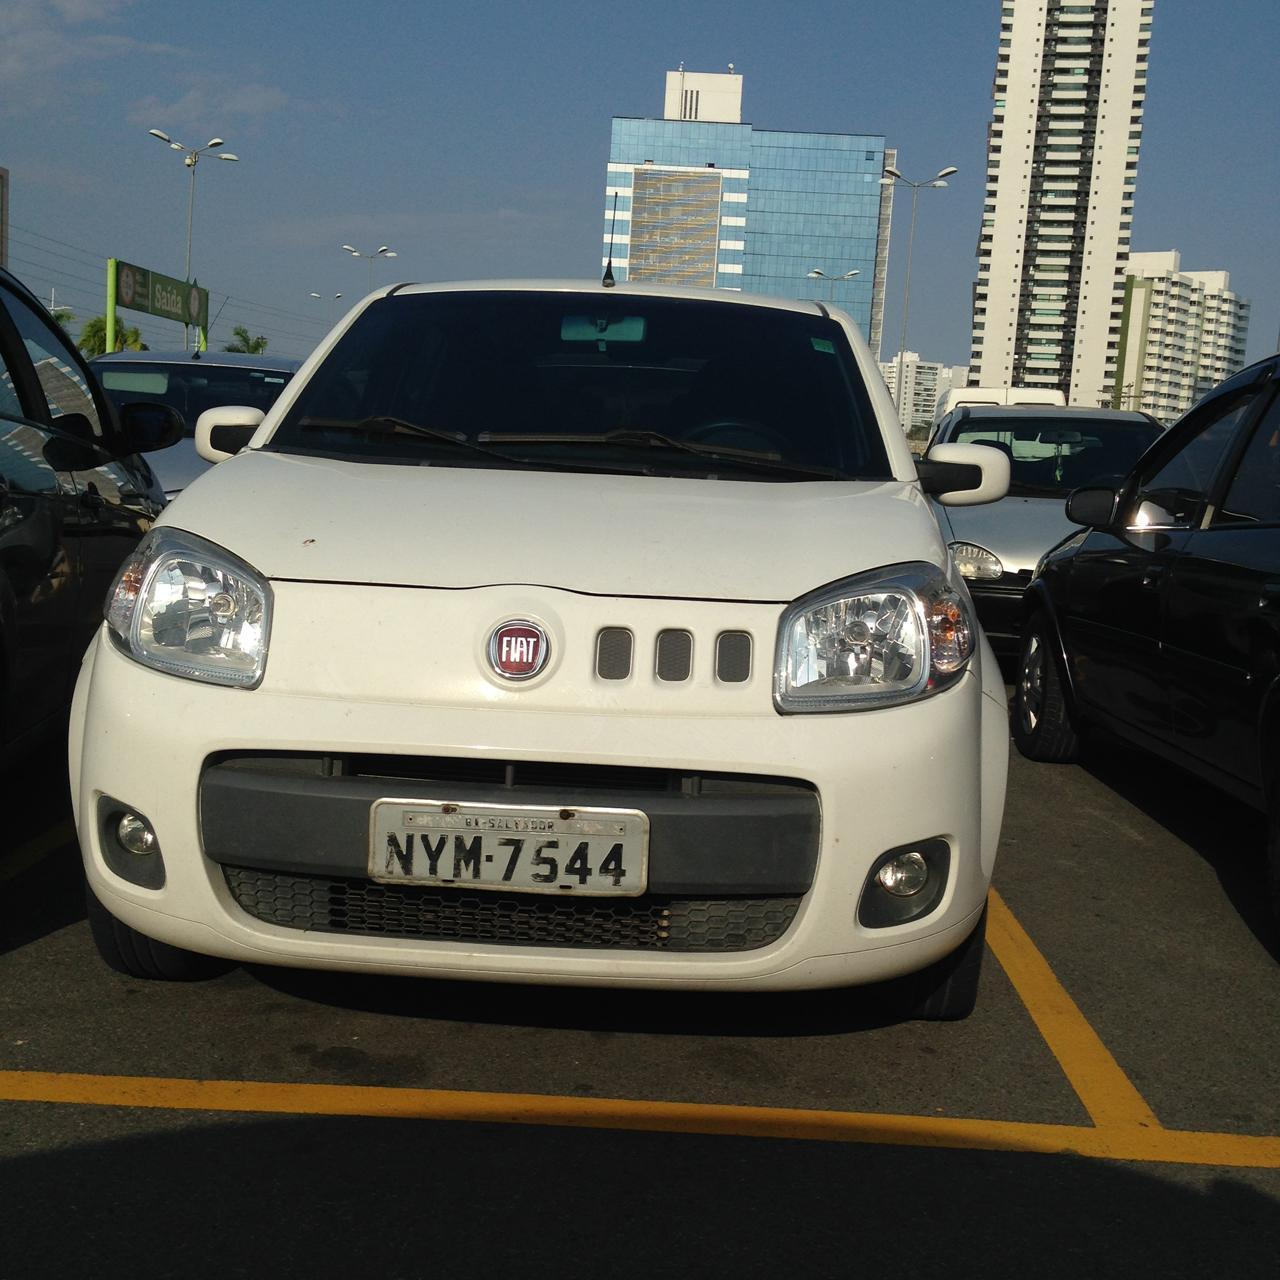placa de veiculo: (344, 765, 664, 951)
